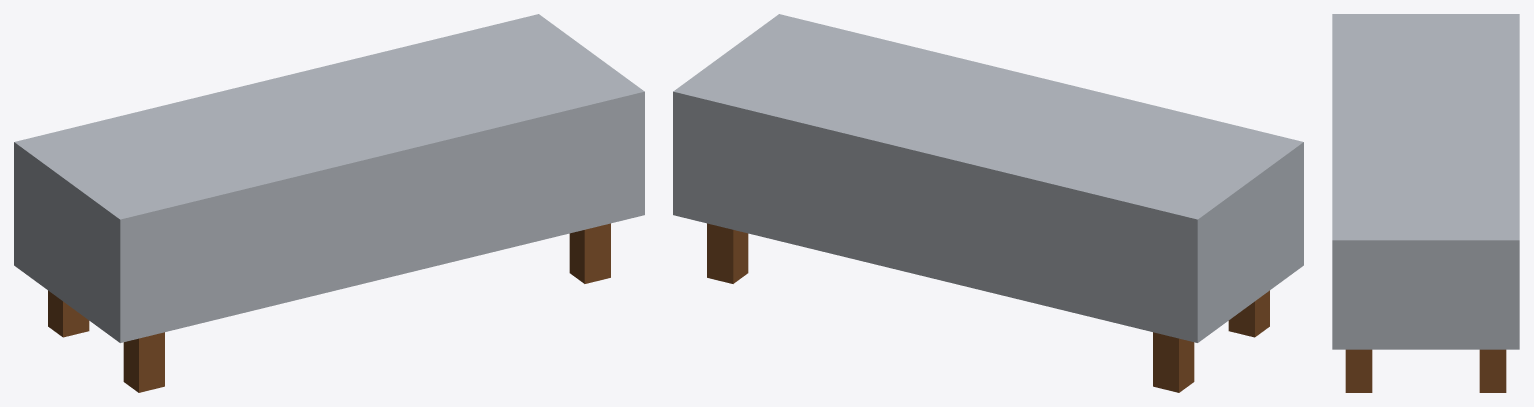
The model's file is water_trough.glb.
The picture shows the model from 3 angles, left to right: view 1: azimuth 30°, elevation 25°; view 2: azimuth 150°, elevation 25°; view 3: azimuth 270°, elevation 25°; orthographic projection. The views are drawn at different scales.
Parts seen in each view (by area): view 1: water_trough; view 2: water_trough; view 3: water_trough.
Part boxes in pixels (x1,y1,x2,y2): water_trough: [14, 14, 644, 392]; water_trough: [673, 14, 1303, 392]; water_trough: [1332, 14, 1519, 392].
Size of the model in its own units: 2 by 0.675 by 0.7.
